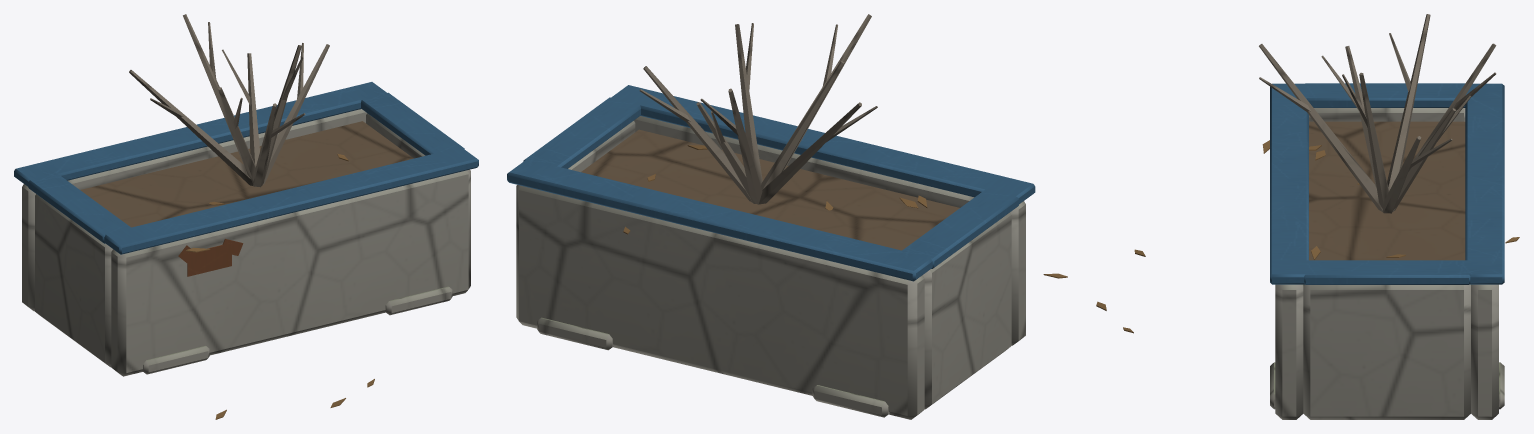
File: street_planter.glb
3 renders of one model, left to right at view 1: azimuth 30°, elevation 25°; view 2: azimuth 150°, elevation 25°; view 3: azimuth 270°, elevation 25°, orthographic. The views are drawn at different scales.
Parts seen in each view (by area): view 1: street_planter; view 2: street_planter; view 3: street_planter.
Boxes of the visible parts, x1,y1,x2,y2 form: street_planter: [14, 14, 478, 419]; street_planter: [507, 14, 1067, 419]; street_planter: [1096, 14, 1519, 419].
Bounding box in the file's own units: 1.64 × 1.1 × 1.52.
Materials: 6 (6 with a texture image).
